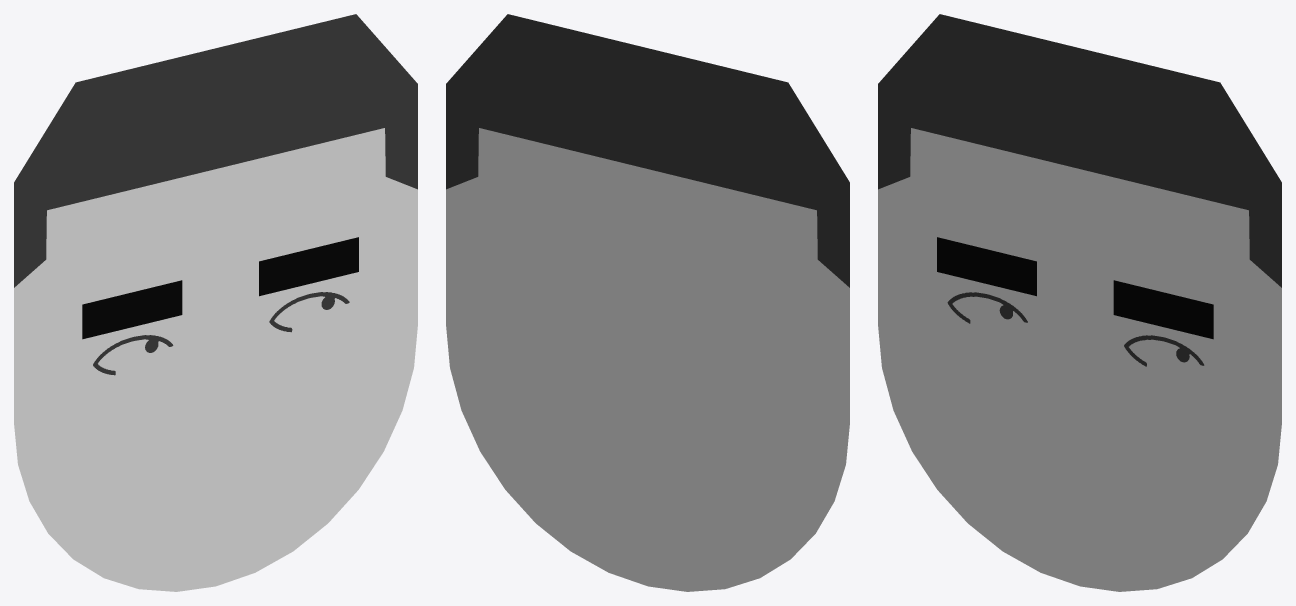
3 renders of one model, left to right at view 1: azimuth 30°, elevation 25°; view 2: azimuth 150°, elevation 25°; view 3: azimuth 330°, elevation 25°, orthographic.
Parts seen in each view (by area): view 1: Face02, Eye02; view 2: Face02; view 3: Face02, Eye02.
Part boxes in pixels (x1,y1,x2,y2): Face02: (14, 14, 417, 591); Eye02: (82, 237, 358, 375); Face02: (446, 14, 849, 591); Face02: (878, 14, 1281, 591); Eye02: (937, 237, 1213, 366).
Size of the model in its own units: 2 by 2.55 by 0.04.
